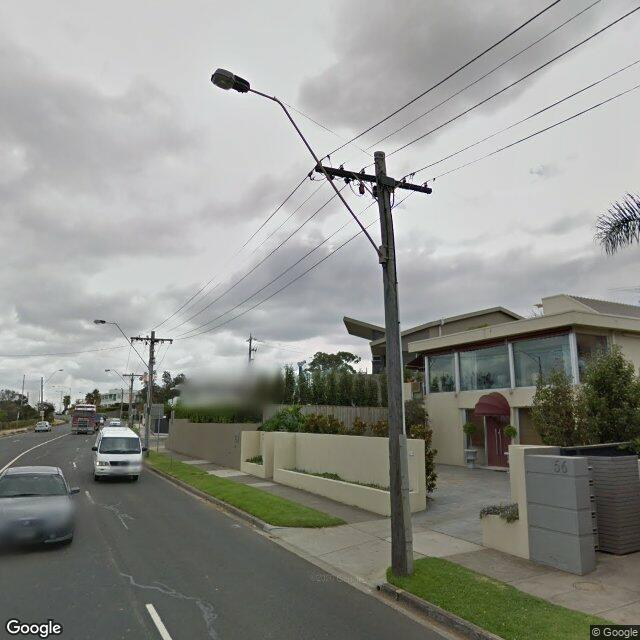crossarm: (309, 154, 435, 200), (130, 334, 174, 346), (122, 373, 142, 377)
streetlight: (210, 68, 388, 264), (94, 320, 150, 370), (105, 369, 130, 387), (43, 369, 64, 385)
timber-pole: (374, 150, 415, 576), (144, 331, 155, 456), (128, 373, 134, 427), (41, 377, 43, 402)
